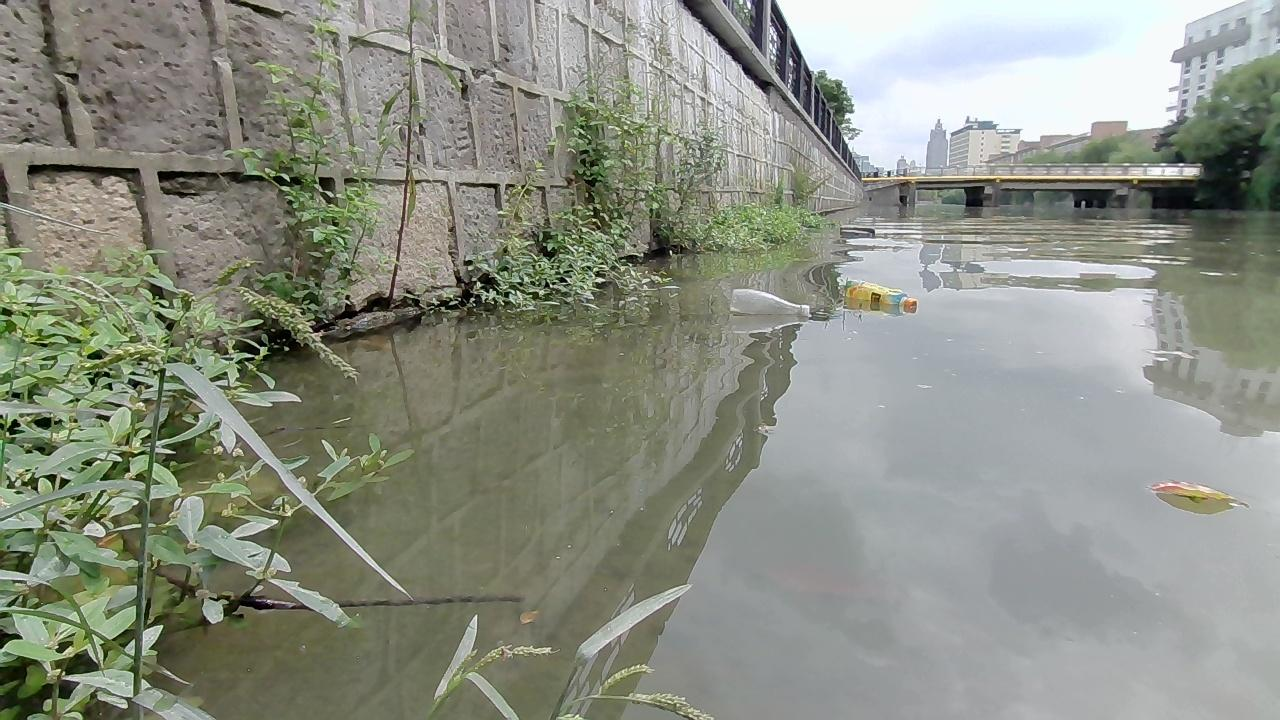bottle: (725, 285, 810, 317), (846, 279, 915, 313)
